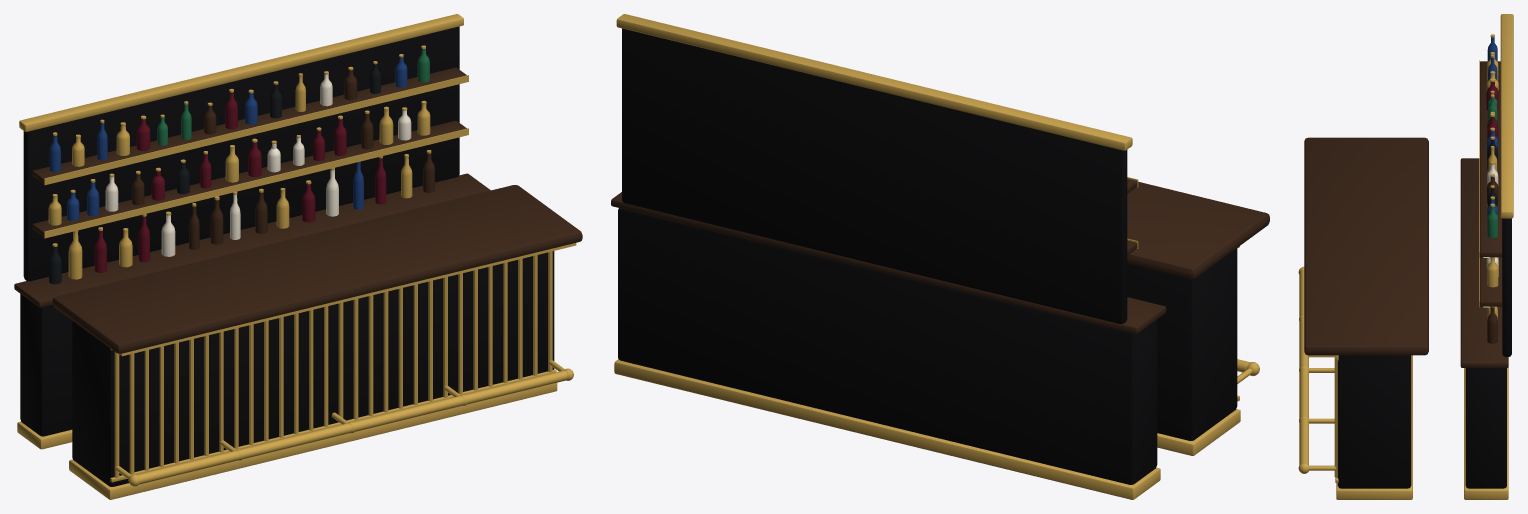
File: bar_counter.glb
The picture shows the model from 3 angles, left to right: view 1: azimuth 30°, elevation 25°; view 2: azimuth 150°, elevation 25°; view 3: azimuth 270°, elevation 25°; orthographic projection. The views are drawn at different scales.
Visible parts, largest first — view 1: bar_counter; view 2: bar_counter; view 3: bar_counter.
Part boxes in pixels (<box>): bar_counter: <box>14,14,582,499</box>; bar_counter: <box>611,14,1269,499</box>; bar_counter: <box>1298,14,1513,499</box>.
Bounding box in the file's own units: 3.12 × 1.98 × 1.35.
